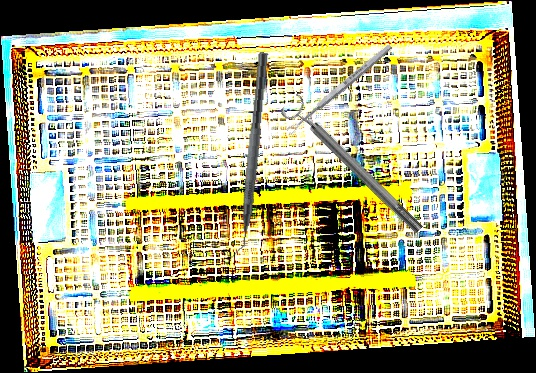Chopper: (226, 49, 269, 265)
Fixation Ring: (278, 91, 429, 242)
Surgical Spoon: (285, 42, 394, 136)
